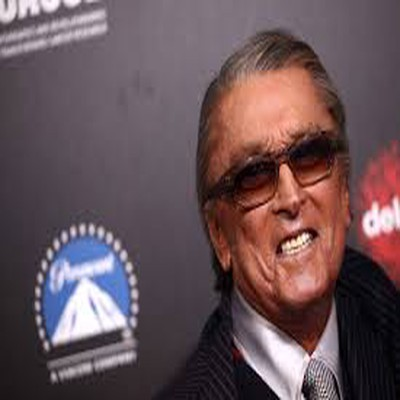eywear: (205, 150, 361, 223)
